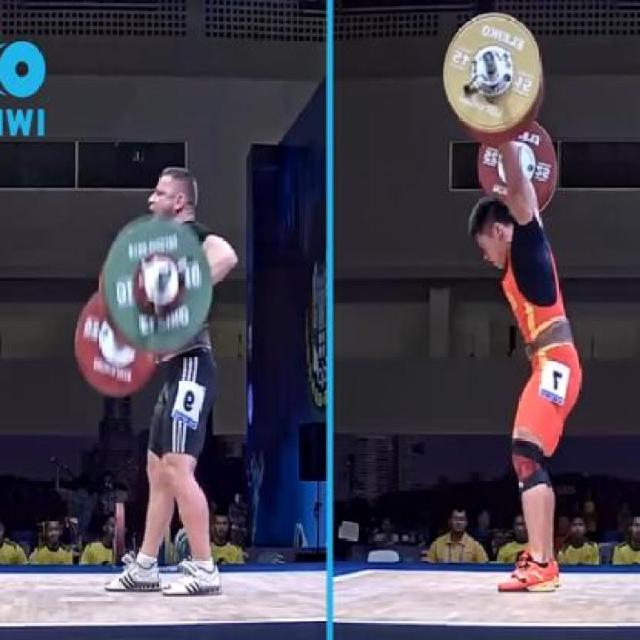Barbell: (153, 264, 176, 287), (479, 48, 498, 68)
